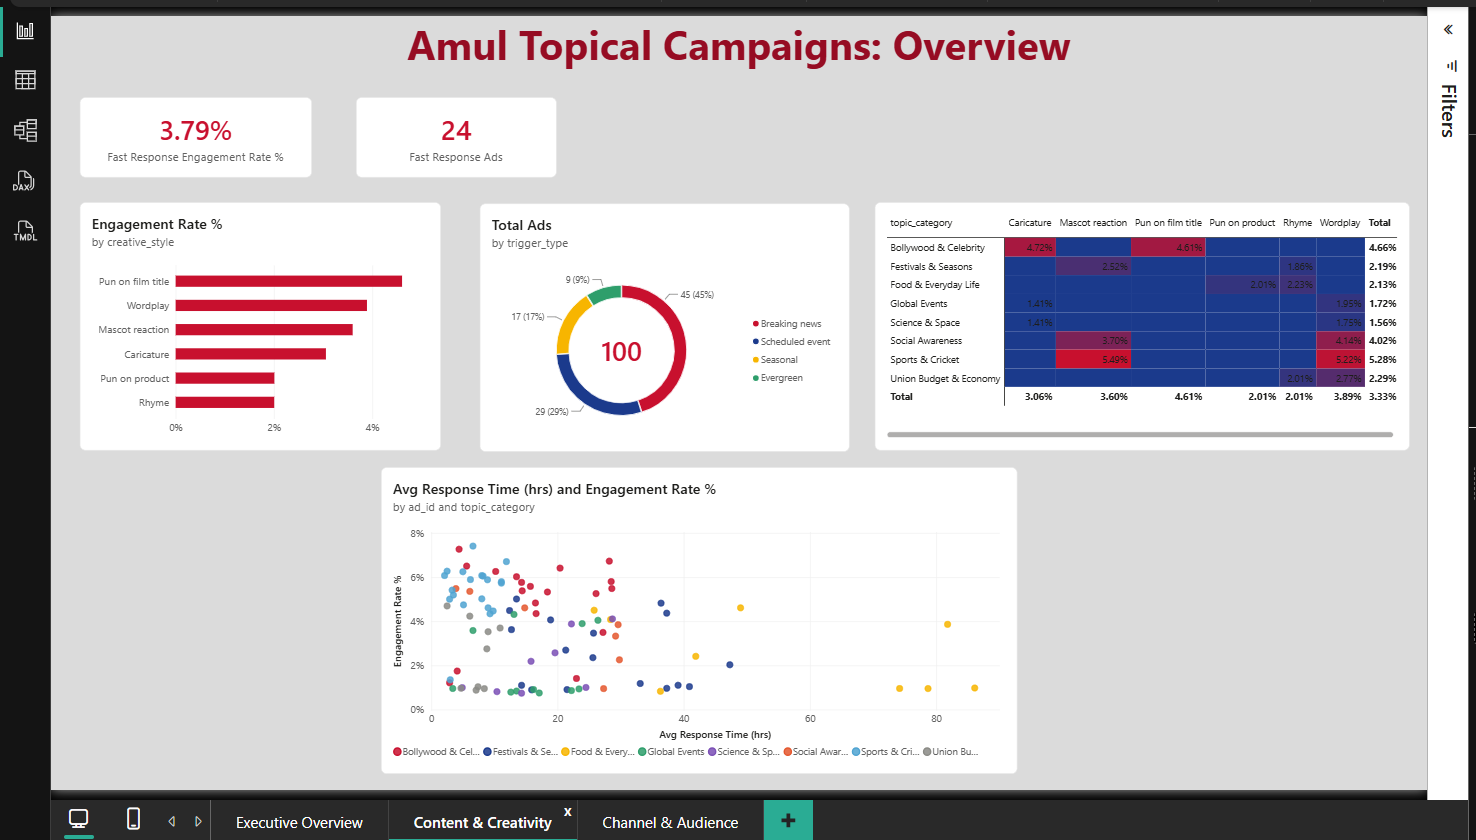

Layout of this report page (visuals, bound fields, positions):
{"tool":"powerbi","page":{"name":"Content & Creativity","canvas":[1920,1080],"ordinal":1},"visuals":[{"type":"clusteredBarChart","fields":{"Category":["Amul_Ads.creative_style"],"Y":["Amul_Ads.Engagement Rate %"]},"box":[40,260,504,346],"z":0},{"type":"pivotTable","fields":{"Columns":["Amul_Ads.creative_style"],"Rows":["Amul_Ads.topic_category"],"Values":["Amul_Ads.Engagement Rate %"]},"box":[1150,260,746,346],"z":1},{"type":"donutChart","fields":{"Category":["Amul_Ads.trigger_type"],"Y":["Amul_Ads.Total Ads"]},"box":[598,262,516,346],"z":2},{"type":"scatterChart","fields":{"Category":["Amul_Ads.ad_id"],"Series":["Amul_Ads.topic_category"],"X":["Amul_Ads.Avg Response Time (hrs)"],"Y":["Amul_Ads.Engagement Rate %"]},"box":[460,630,888,428],"z":3},{"type":"card","fields":{"Values":["Amul_Ads.Fast Response Ads"]},"box":[426,114,280,112],"z":4},{"type":"card","fields":{"Values":["Amul_Ads.Fast Response Engagement Rate %"]},"box":[40,114,324,112],"z":5},{"type":"textbox","box":[0,0,1920,114],"z":6}]}

Visuals, with their boxes on the page's 1920x1080 design canvas (x1, y1, x2, y2). These are canvas units, not pixel positions in the 1476x840 screenshot, which may show the page scaled, cropped or inside an application window:
clusteredBarChart - Amul_Ads.creative_style x Amul_Ads.Engagement Rate %: [x1=40, y1=260, x2=544, y2=606]
pivotTable - Amul_Ads.creative_style x Amul_Ads.topic_category: [x1=1150, y1=260, x2=1896, y2=606]
donutChart - Amul_Ads.trigger_type x Amul_Ads.Total Ads: [x1=598, y1=262, x2=1114, y2=608]
scatterChart - Amul_Ads.ad_id x Amul_Ads.topic_category: [x1=460, y1=630, x2=1348, y2=1058]
card - Amul_Ads.Fast Response Ads: [x1=426, y1=114, x2=706, y2=226]
card - Amul_Ads.Fast Response Engagement Rate %: [x1=40, y1=114, x2=364, y2=226]
textbox: [x1=0, y1=0, x2=1920, y2=114]
